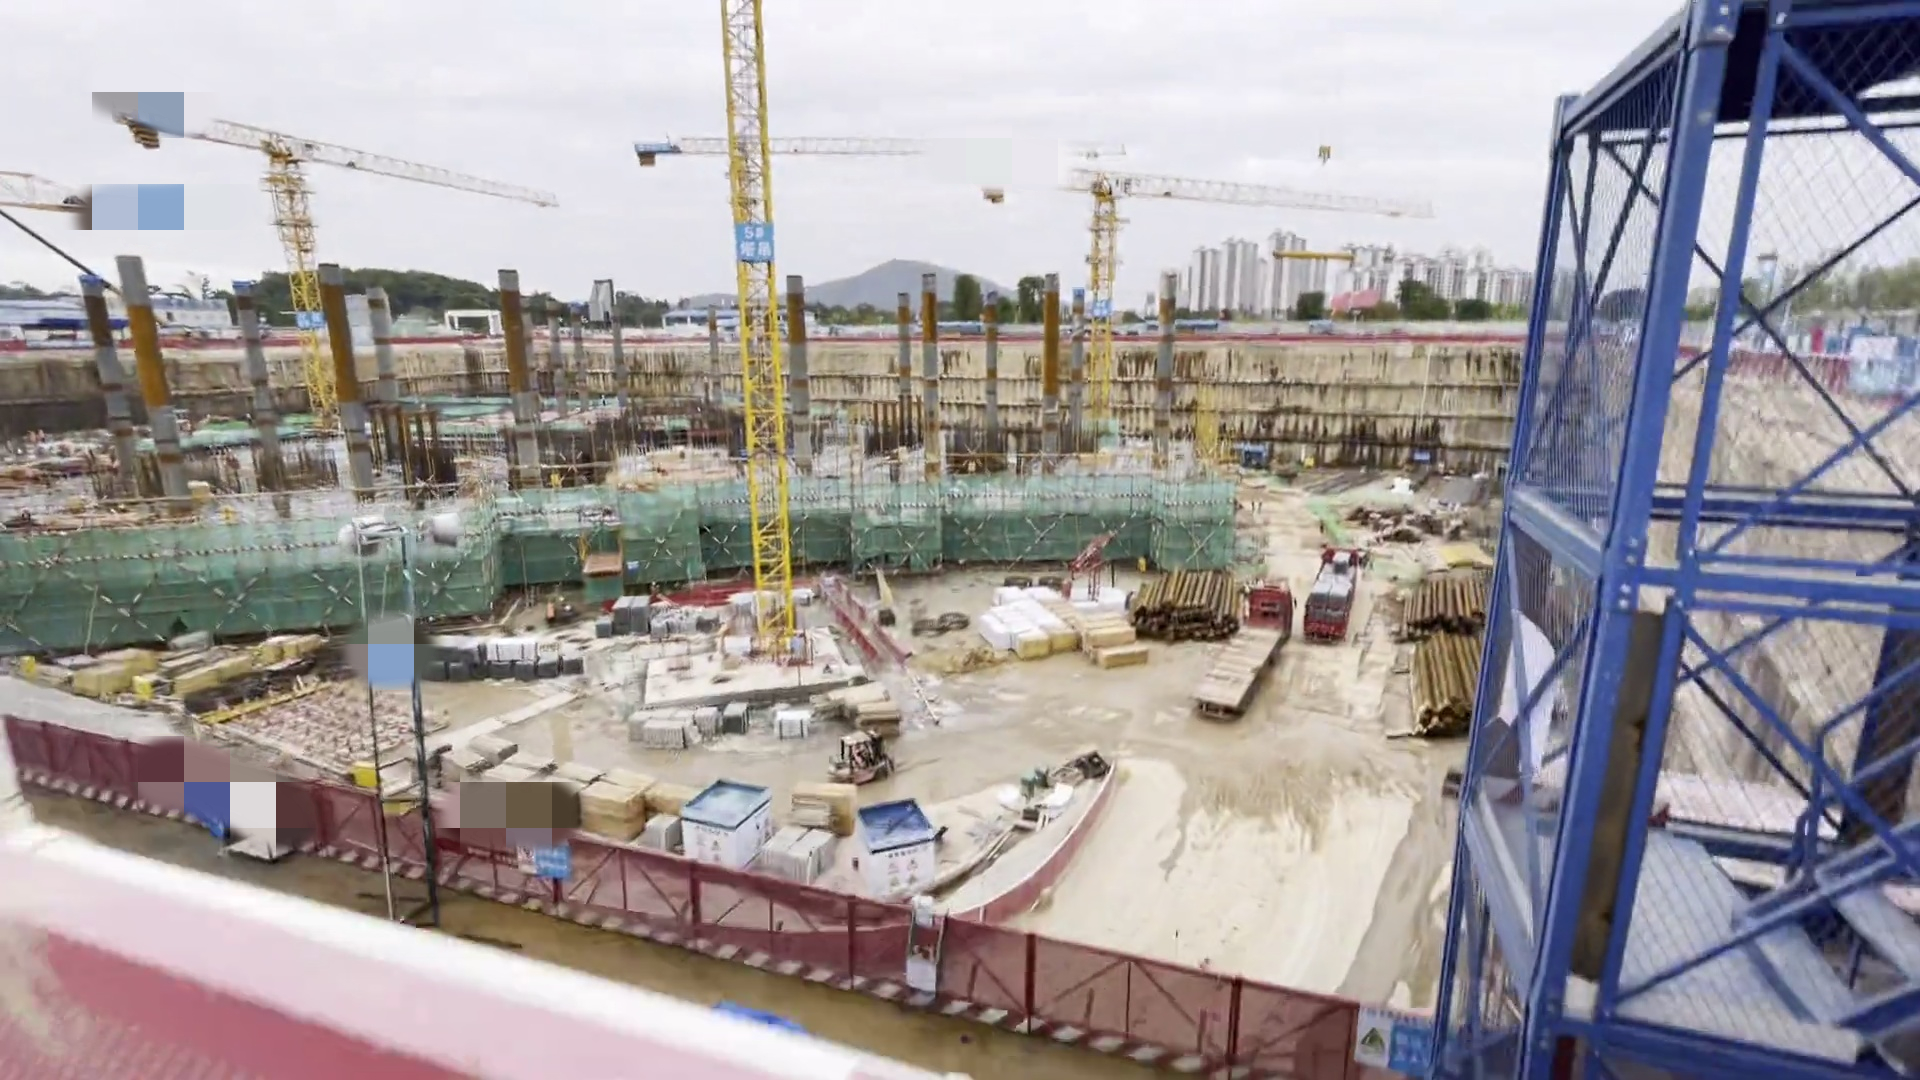board: (447, 717, 670, 845), (1054, 607, 1153, 682), (799, 767, 870, 836)
ebox: (117, 673, 200, 738), (338, 752, 401, 802), (32, 645, 44, 676)
fence: (25, 696, 1338, 1068), (803, 558, 953, 682)
scaffold: (765, 703, 831, 753)
slogan: (1356, 996, 1473, 1080), (618, 127, 691, 179), (509, 829, 576, 885), (725, 211, 786, 266), (287, 306, 339, 345), (1087, 280, 1120, 324)
wood: (841, 675, 924, 765)
